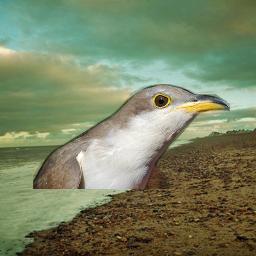Cuckoo: (33, 84, 230, 189)
